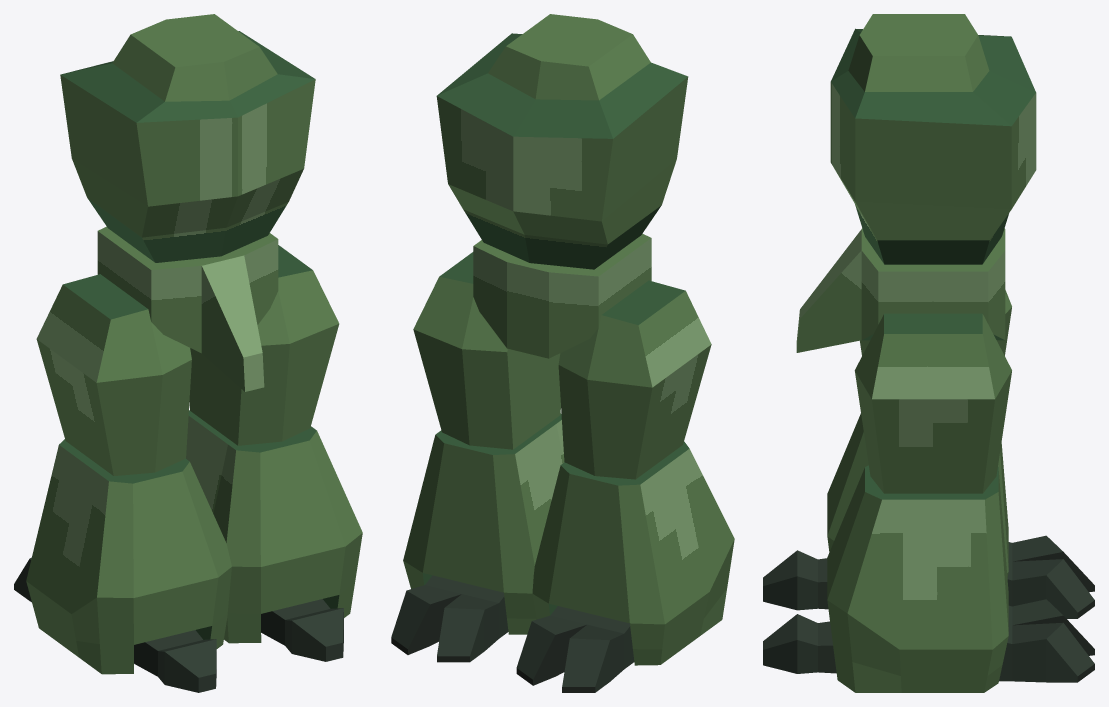
Rendered from TyranusBody.obj.
The picture shows the model from 3 angles, left to right: view 1: azimuth 30°, elevation 25°; view 2: azimuth 150°, elevation 25°; view 3: azimuth 270°, elevation 25°; orthographic projection. The views are drawn at different scales.
Parts seen in each view (by area): view 1: Shin, Body, Thigh, Pelvis, cuboid; view 2: Shin, Body, Thigh, Toe, Pelvis; view 3: Body, Shin, Thigh, Pelvis, Toe, cuboid.
Part boxes in pixels (x1=…): Shin: x1=26, y1=410, x2=362, y2=674; Body: x1=60, y1=14, x2=315, y2=262; Thigh: x1=36, y1=245, x2=339, y2=475; Pelvis: x1=97, y1=226, x2=278, y2=391; cuboid: x1=134, y1=599, x2=343, y2=692; Shin: x1=403, y1=413, x2=734, y2=665; Body: x1=436, y1=14, x2=688, y2=269; Thigh: x1=413, y1=252, x2=711, y2=479; Toe: x1=391, y1=575, x2=634, y2=692; Pelvis: x1=473, y1=233, x2=651, y2=358; Body: x1=830, y1=14, x2=1036, y2=264; Shin: x1=827, y1=413, x2=1008, y2=692; Thigh: x1=854, y1=290, x2=1011, y2=493; Pelvis: x1=796, y1=228, x2=1005, y2=352; Toe: x1=999, y1=535, x2=1094, y2=682; cuboid: x1=763, y1=550, x2=836, y2=673.
Bounding box in the file's own units: 0.575 × 1.2 × 0.6056.
Materials: 1 (1 with a texture image).
